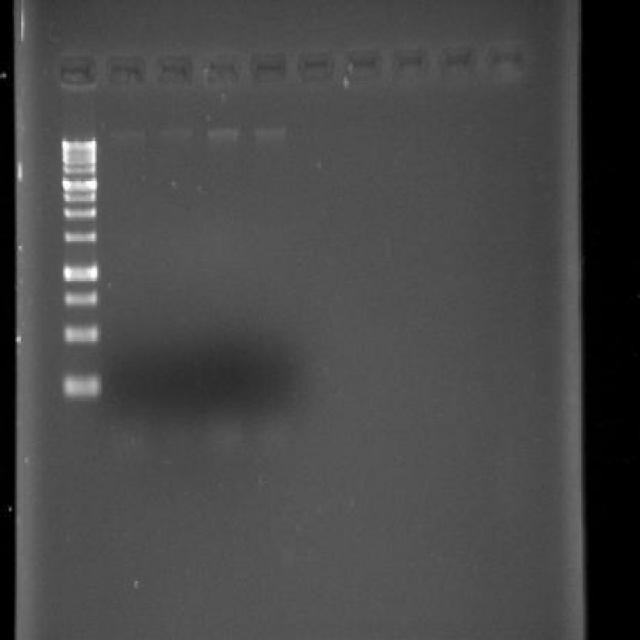B: (157, 125, 196, 142), (204, 124, 241, 140), (105, 126, 146, 140), (254, 125, 288, 141)
L: (46, 34, 542, 109)
M: (53, 133, 104, 413)
P: (58, 368, 104, 404), (59, 322, 101, 347), (61, 288, 98, 312), (59, 262, 99, 284), (60, 228, 98, 244), (62, 206, 98, 220), (62, 178, 98, 192), (61, 192, 97, 205), (61, 138, 97, 151), (61, 167, 97, 176), (61, 150, 98, 158), (61, 157, 97, 165)
Pc: (53, 50, 101, 99), (104, 50, 148, 92), (343, 45, 386, 84), (202, 51, 244, 87), (154, 53, 194, 90), (296, 48, 335, 84), (248, 50, 288, 84), (392, 46, 432, 80), (488, 43, 528, 77), (438, 44, 480, 74)
